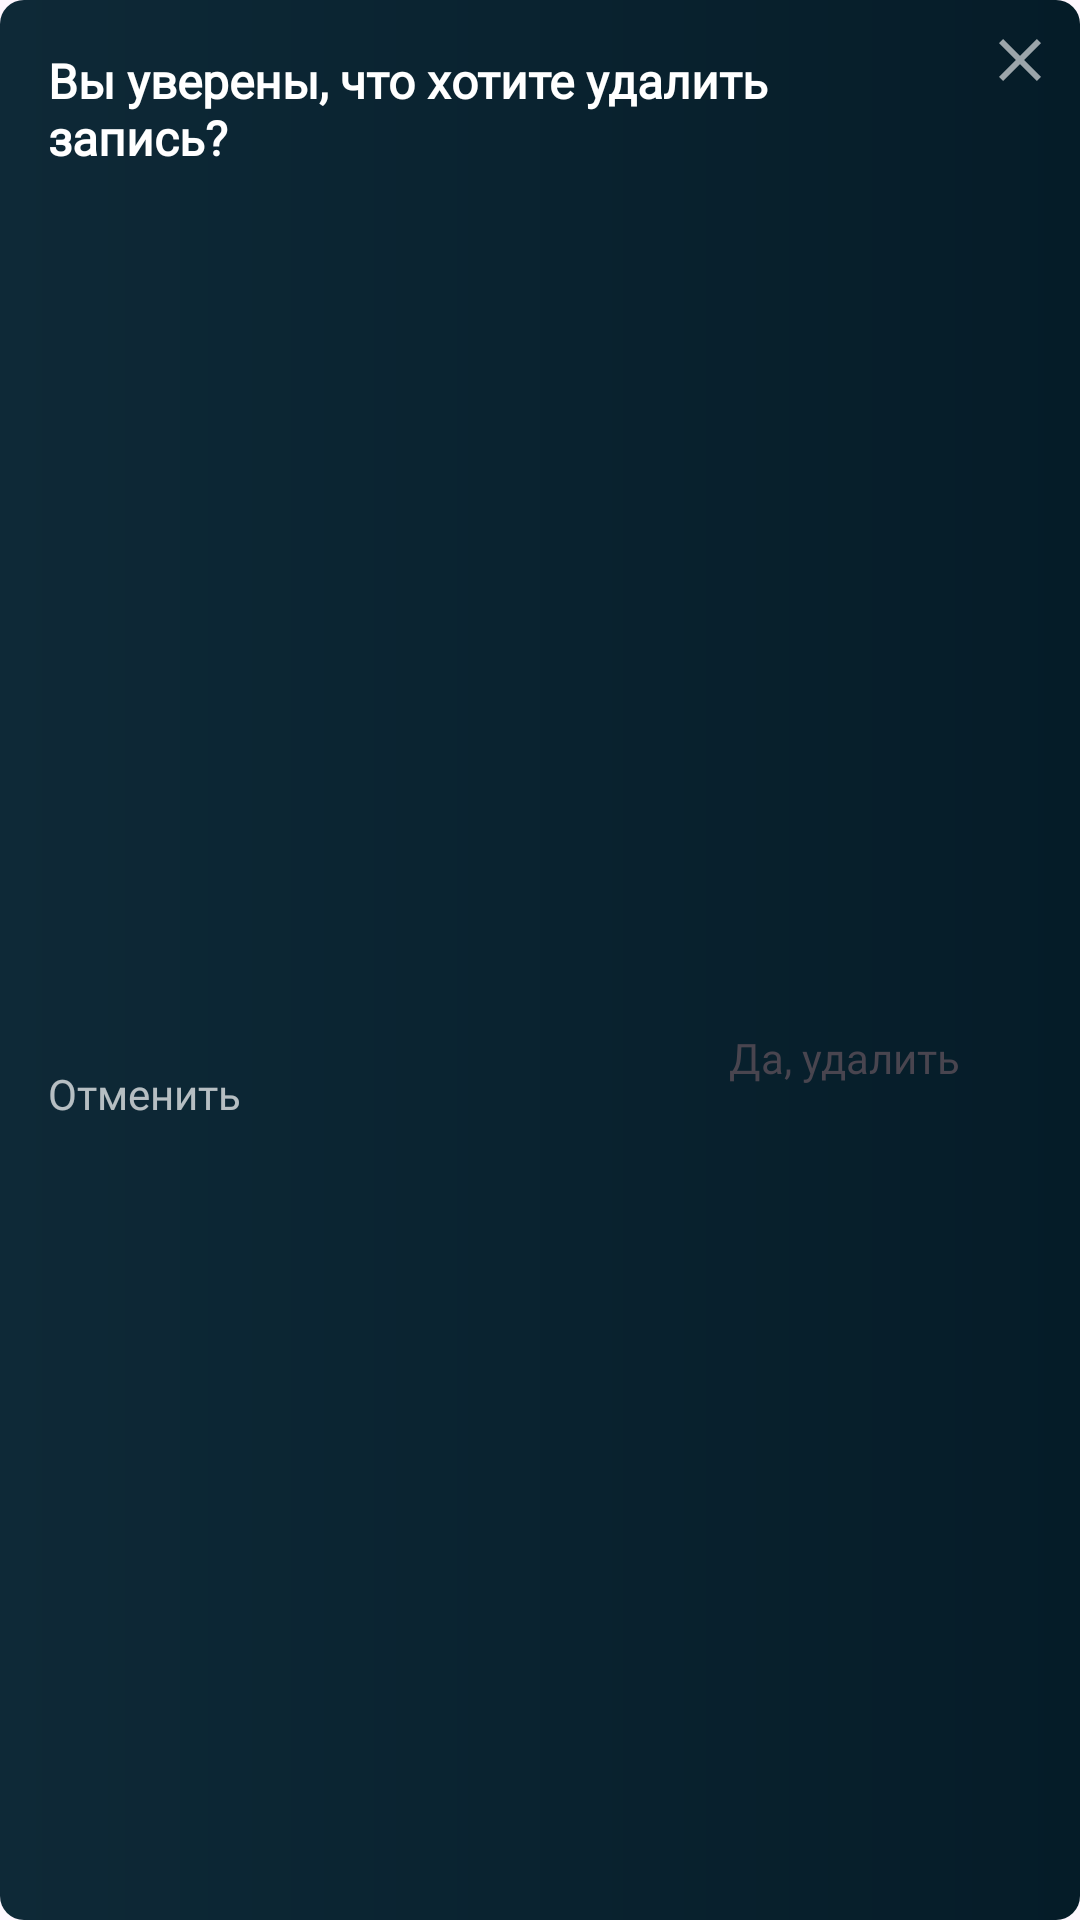

Where icons sit on this 1080x1920 app screen, as [x1, y1, x2, y2]:
close: [999, 39, 1041, 81]
